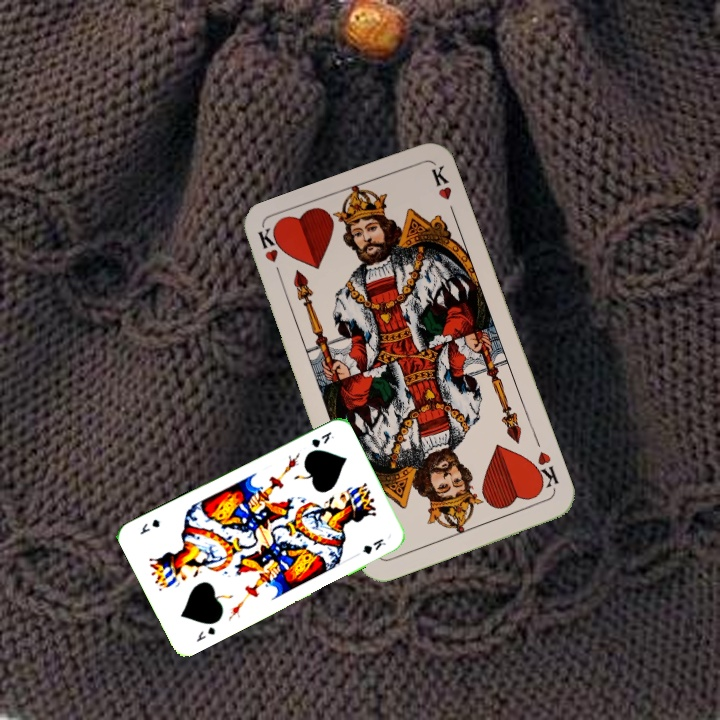GK: (306, 427, 337, 450), (192, 623, 218, 644)
HK: (254, 225, 286, 284), (527, 447, 561, 493)
